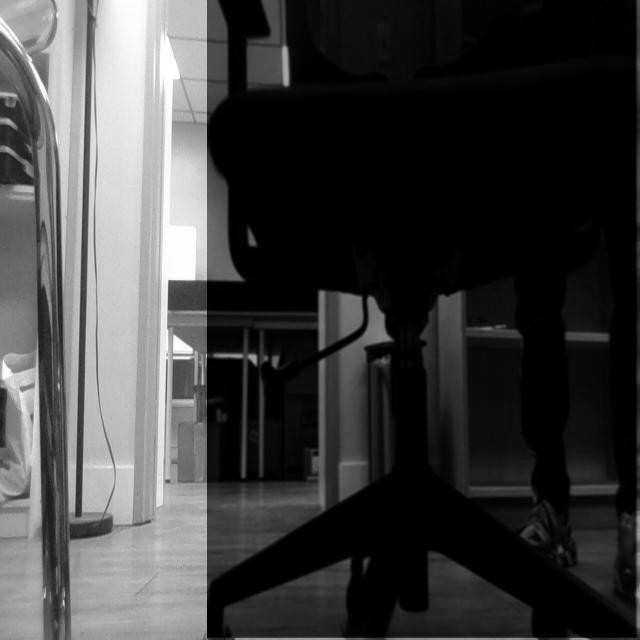chair: (209, 5, 640, 640)
